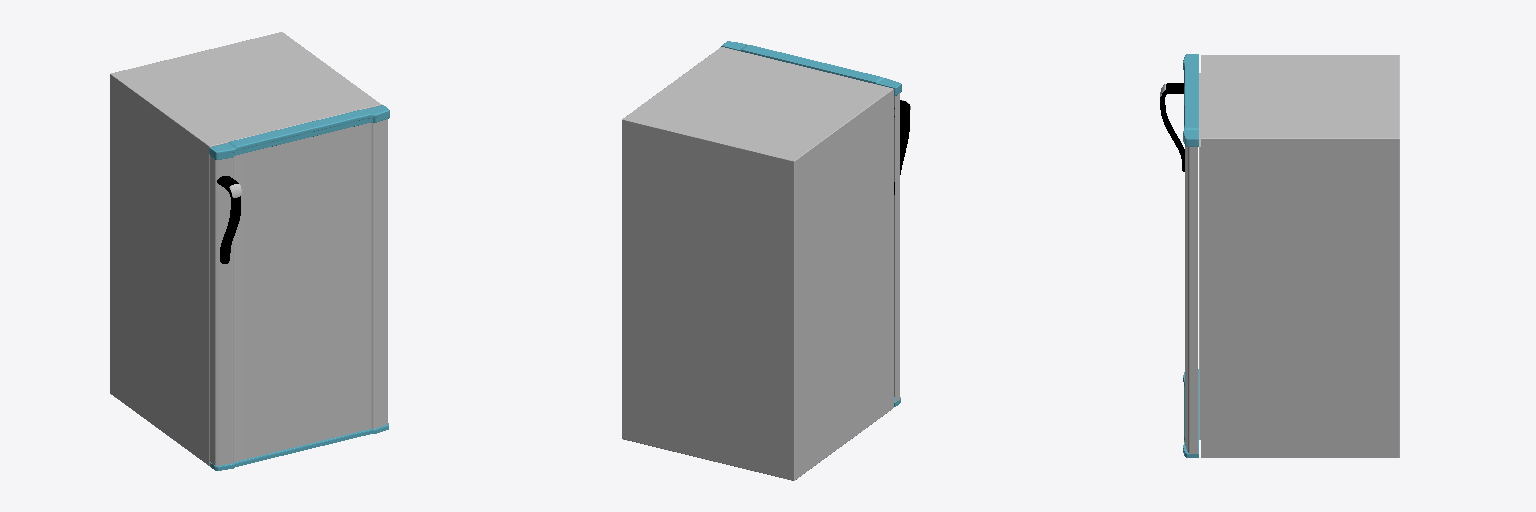
Rendered from fridge.obj.
The picture shows the model from 3 angles: view 1: azimuth 30°, elevation 25°; view 2: azimuth 150°, elevation 25°; view 3: azimuth 270°, elevation 25°; orthographic projection.
Parts seen in each view (by area): view 1: Plane.002, Plane, Plane.003, Plane.004, Circle; view 2: Plane, Plane.002, Plane.003, Circle; view 3: Plane, Plane.002, Plane.003, Plane.001, Circle.
Part boxes in pixels (x1,y1,x2,y2): Plane.002: (210, 119, 387, 465); Plane: (110, 32, 381, 465); Plane.003: (209, 105, 389, 159); Plane.004: (210, 423, 388, 470); Circle: (217, 176, 240, 263); Plane: (622, 47, 893, 480); Plane.002: (894, 93, 899, 401); Plane.003: (721, 41, 901, 95); Circle: (894, 100, 909, 194); Plane: (1201, 55, 1399, 457); Plane.002: (1185, 146, 1197, 453); Plane.003: (1183, 54, 1198, 146); Plane.001: (1199, 73, 1200, 439); Circle: (1160, 83, 1184, 171).
Bounding box in the file's own units: 2.03 × 3.56 × 2.41.